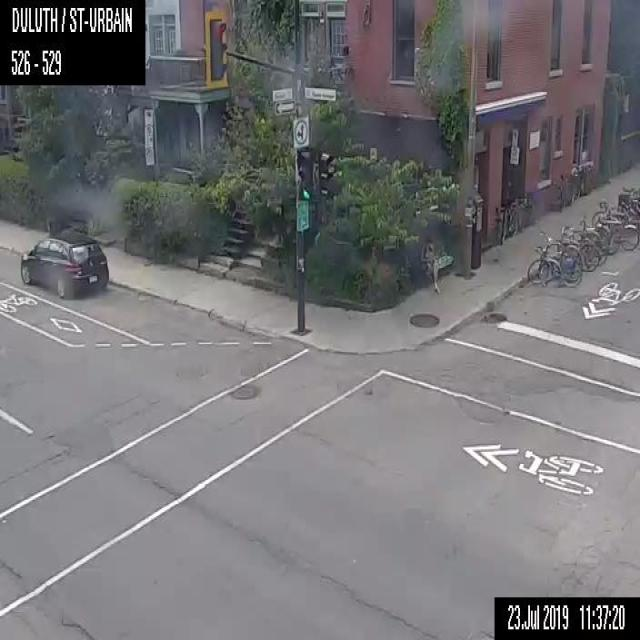vehicle: (17, 232, 109, 299)
